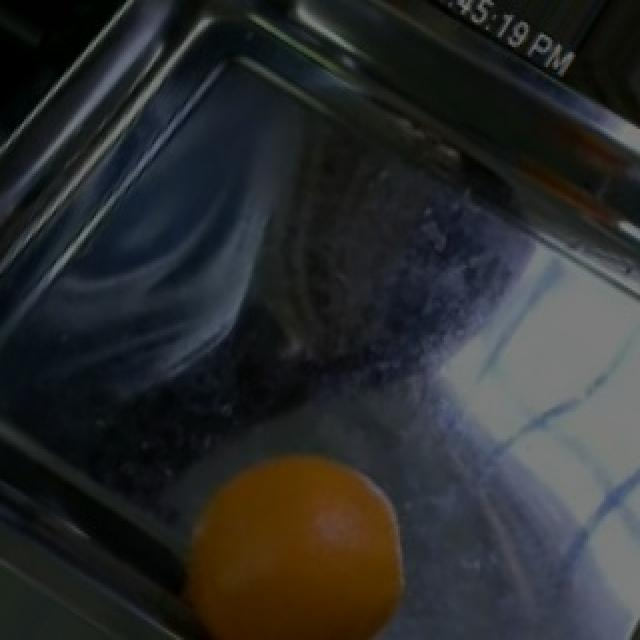Fruit: (158, 429, 428, 640)
